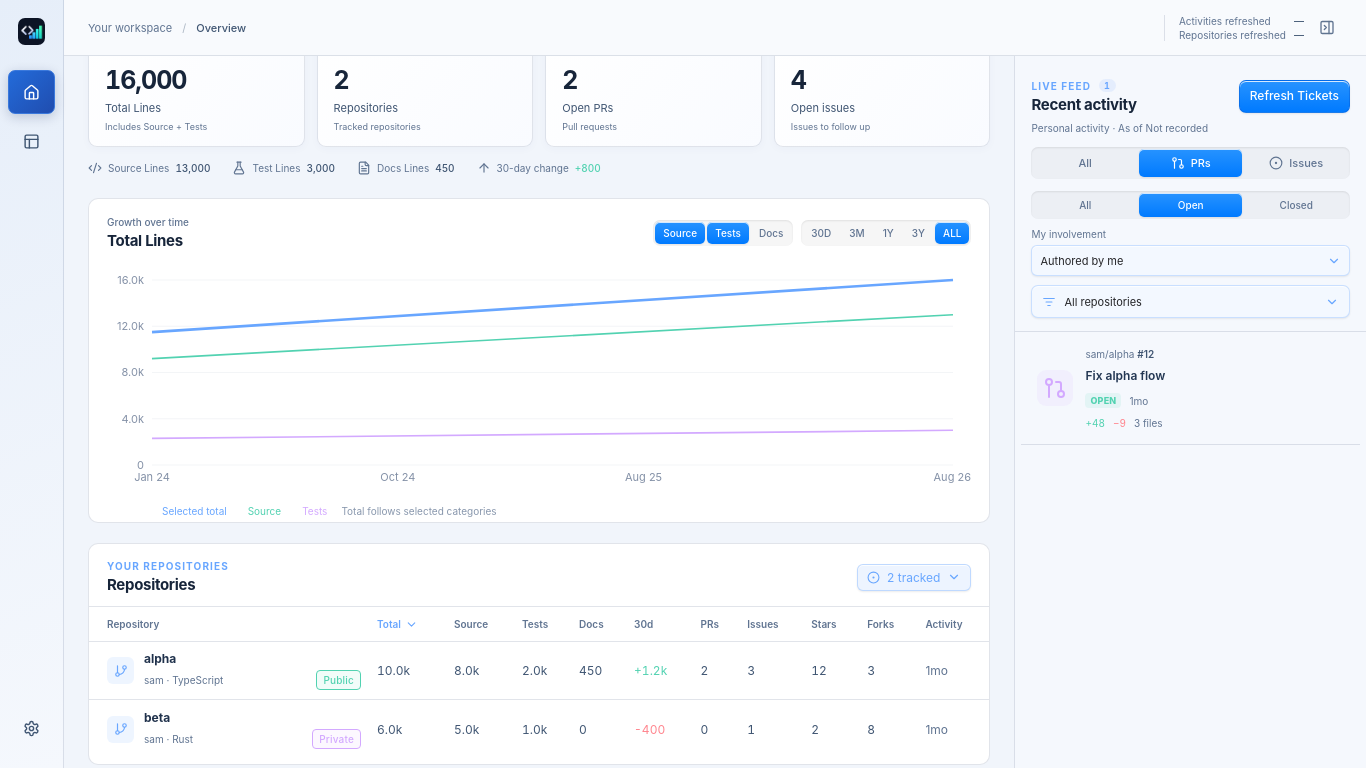
it: dashboard UI › opens an opted-in board and removes it immediately when disabled
The width and height of the screenshot is (1366, 768).
(page scrolled)
Click the button named "Kanban Board".
click(32, 141)  # box [8,119,55,163]
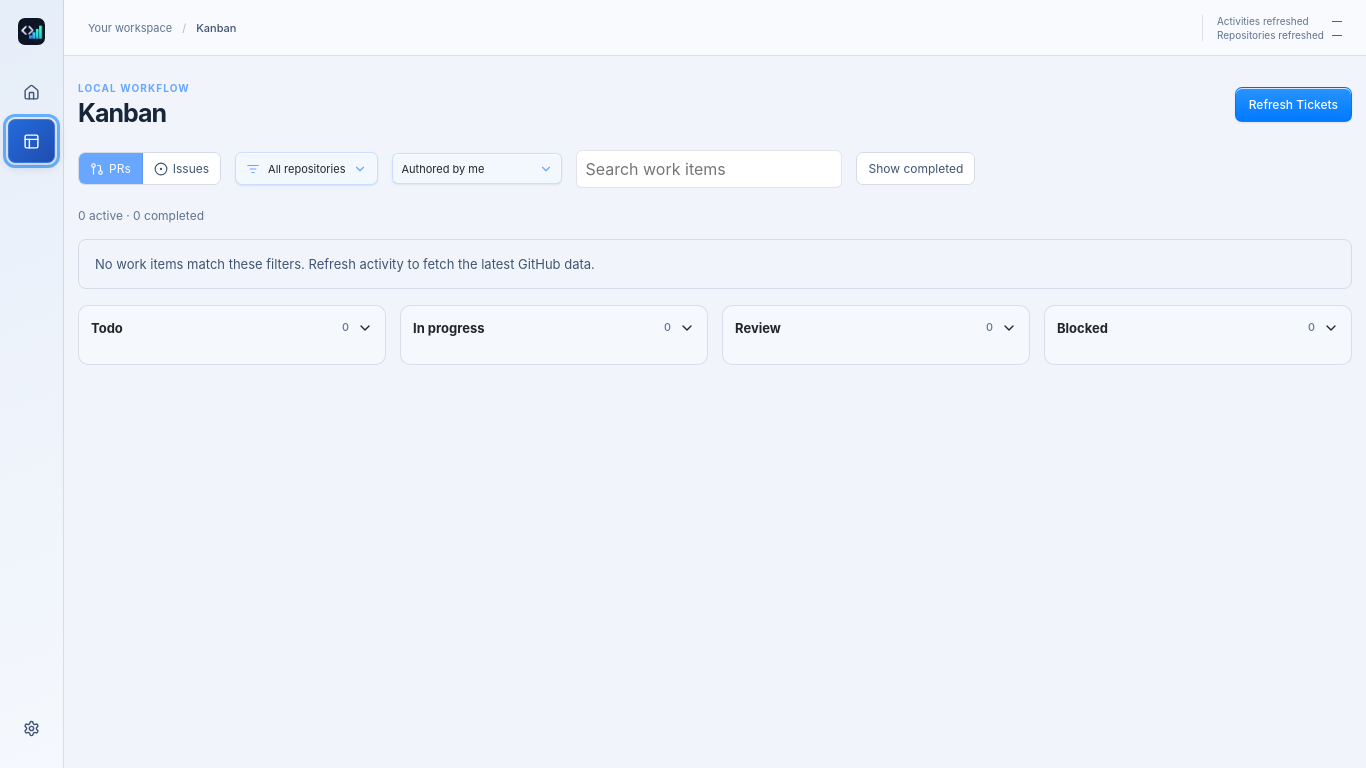
Check: the heading "Kanban" is shown, box [78,98,166,128]
Check: the number of buttons named "Back to dashboard" is 1
Check: the button named "Back to dashboard" is shown
Click the button named "Back to dashboard".
click(32, 92)  # box [8,70,55,114]
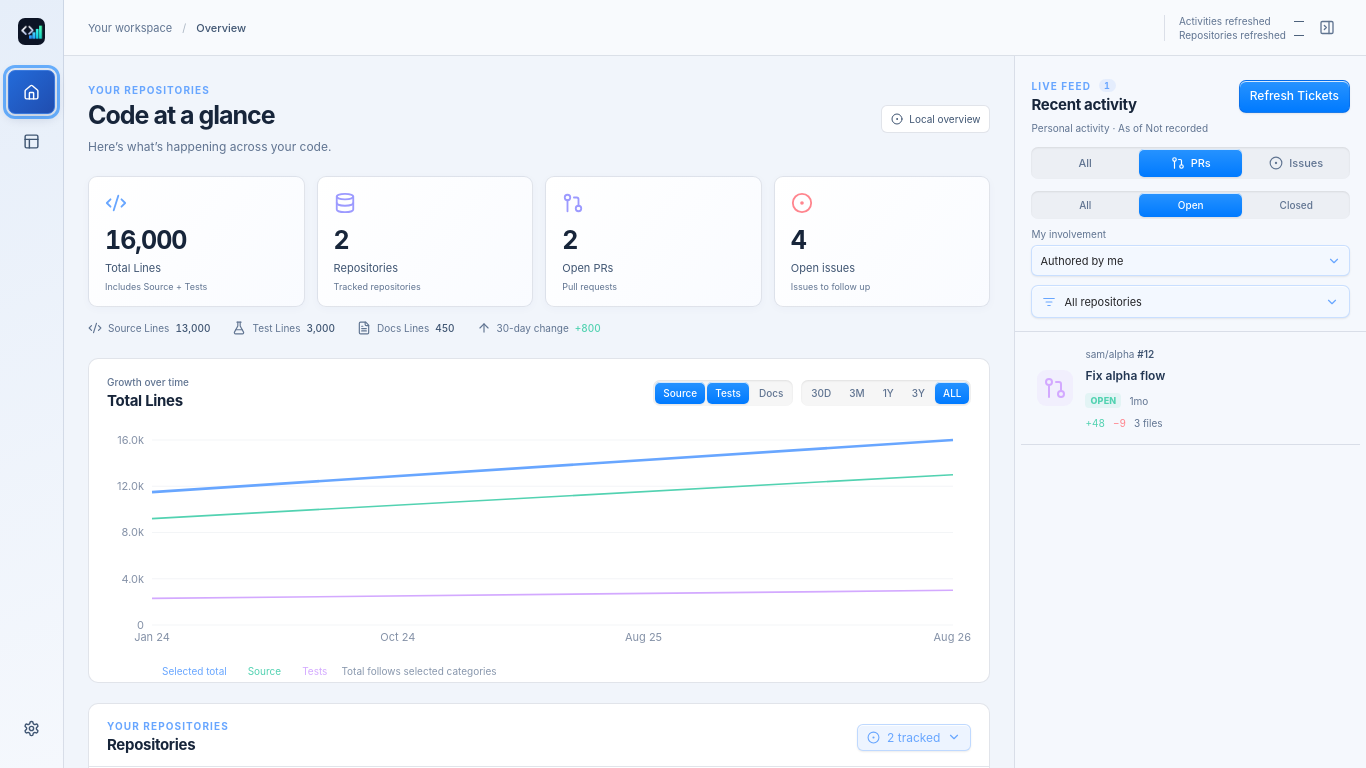
Check: the heading "Code at a glance" is shown, box [88,100,275,130]
Click the button named "Kanban Board".
click(32, 141)  # box [8,119,55,163]
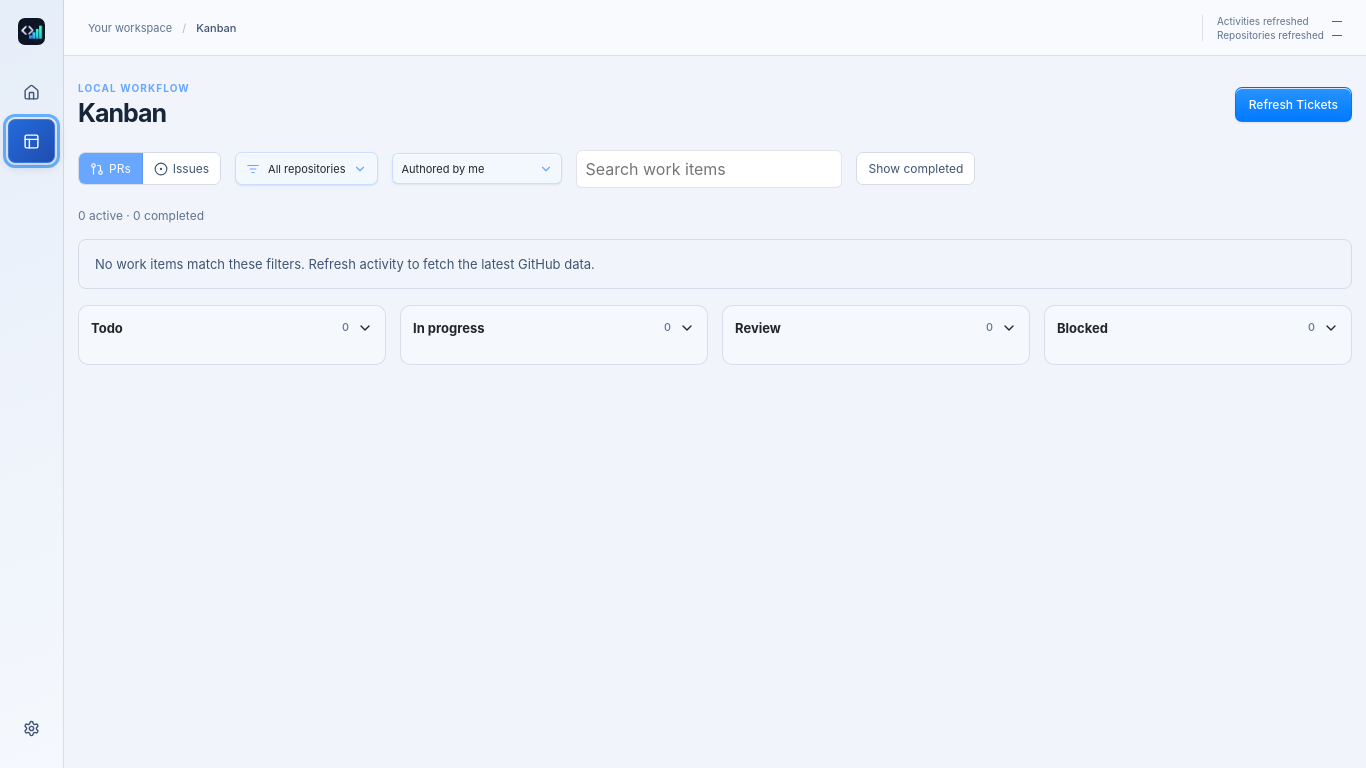
Check: the heading "Kanban" is shown, box [78,98,166,128]
Click the button titled "Settings".
click(32, 728)  # box [8,706,55,750]
(page scrolled)
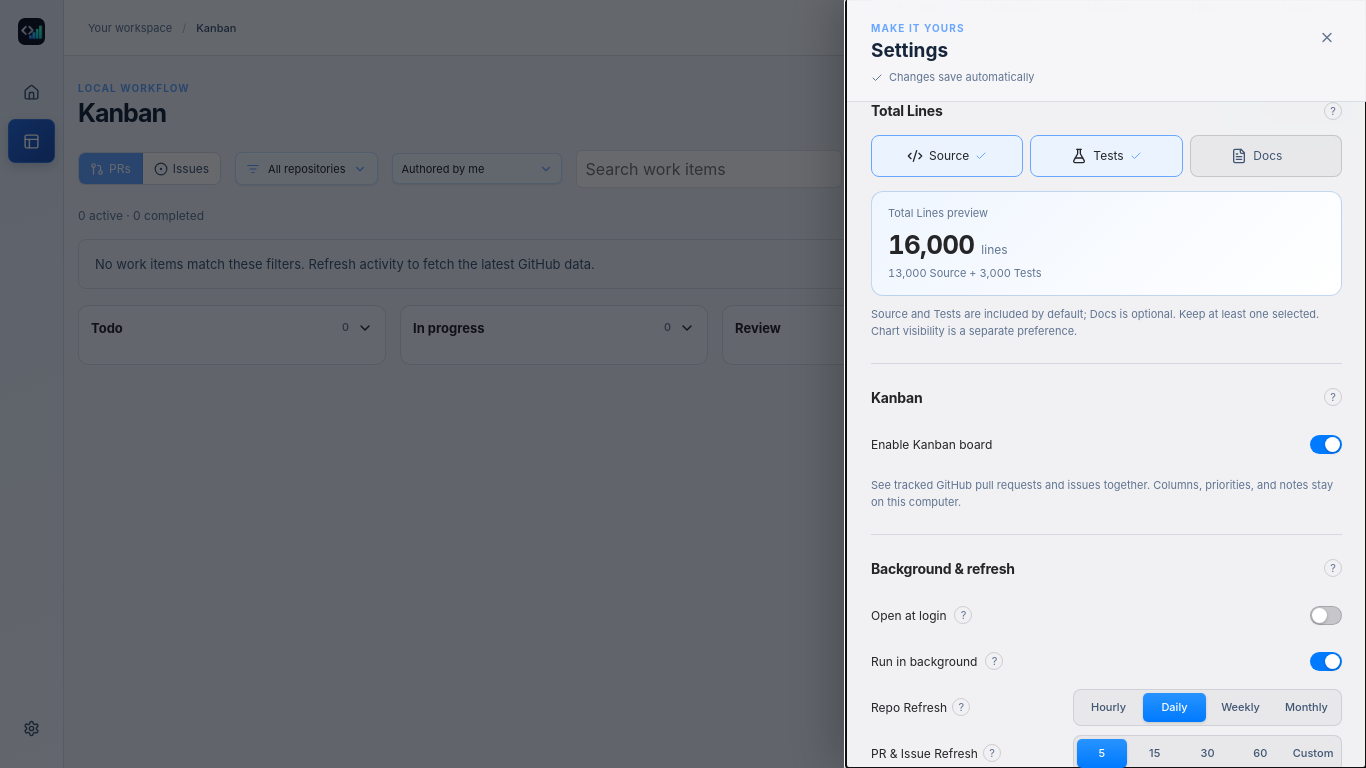
Click the switch labelled "Enable Kanban board".
click(1326, 444)  # box [1310,435,1342,454]
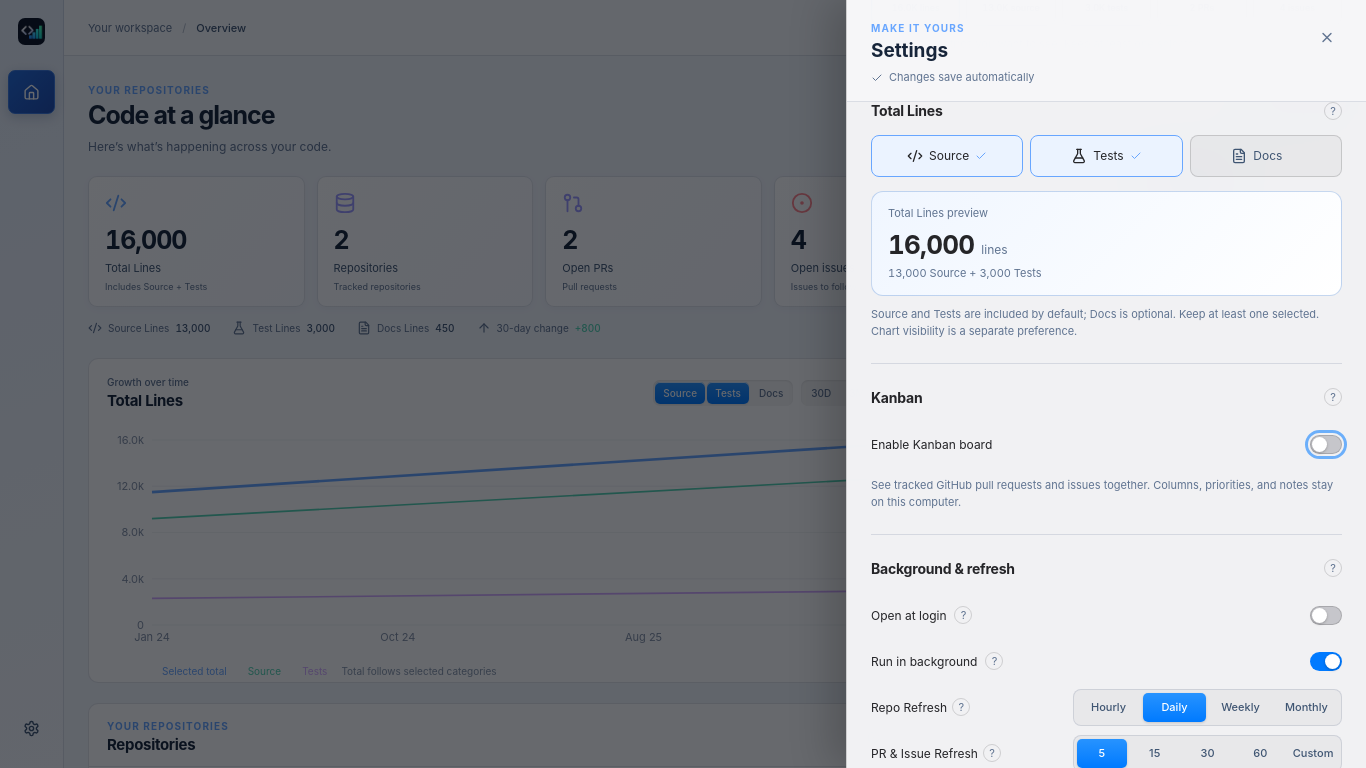
Click the button named "Close settings".
click(1327, 37)  # box [1312,22,1342,52]
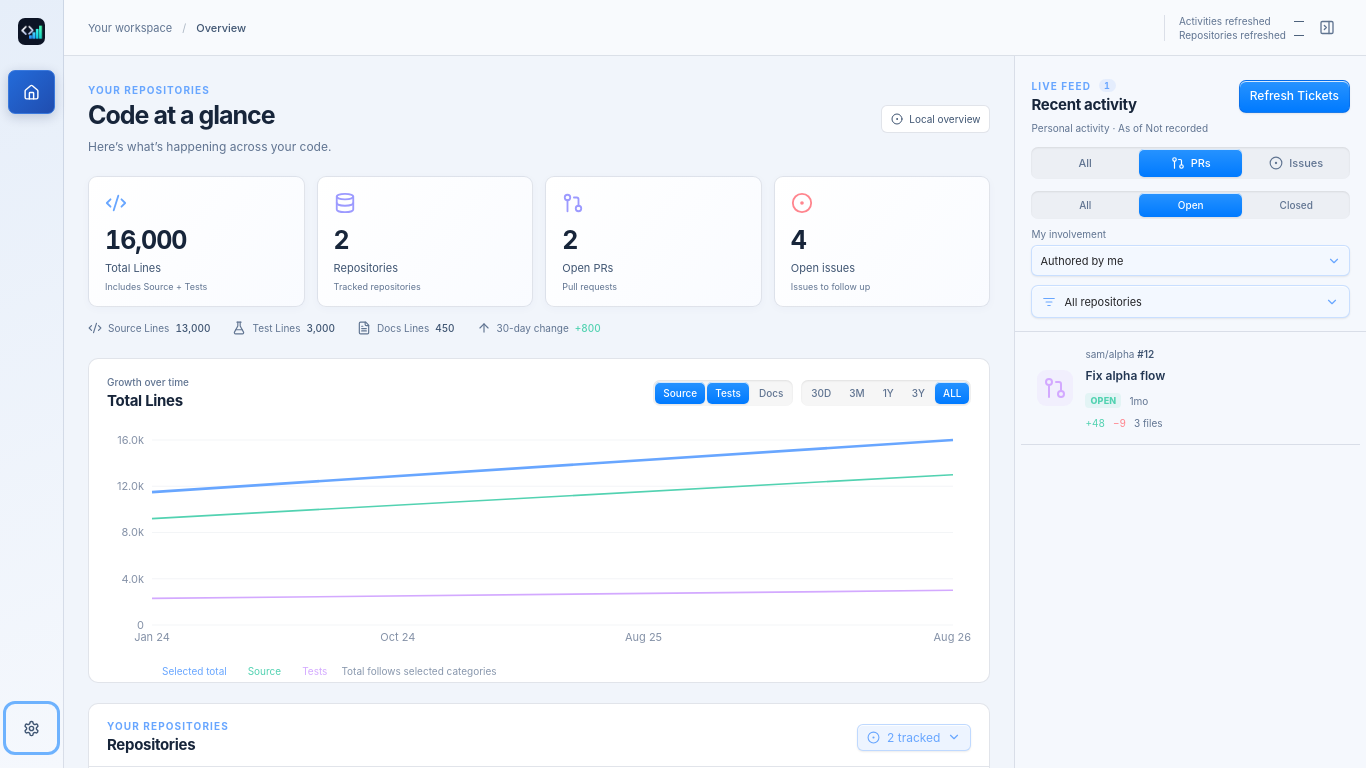
Check: the heading "Code at a glance" is shown, box [88,100,275,130]
Check: the label "Kanban board" is gone
